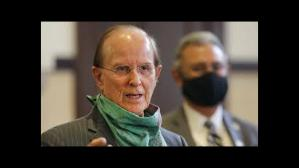mask_weared_incorrect: (107, 56, 159, 121)
with_mask: (183, 59, 231, 104)
